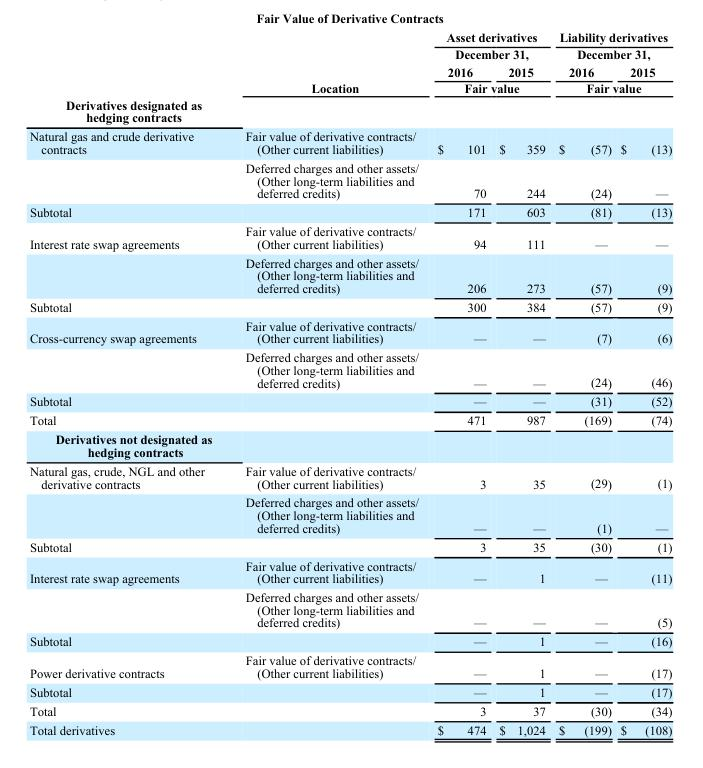table: (28, 29, 671, 736)
table column: (224, 29, 427, 736), (28, 29, 224, 736), (427, 29, 492, 736), (551, 29, 615, 736), (492, 29, 551, 736), (615, 29, 671, 736)
table column header: (28, 29, 671, 96)
table projected row header: (28, 429, 671, 461), (28, 96, 671, 126)
table row: (28, 252, 671, 297), (28, 158, 671, 202), (28, 347, 671, 391), (28, 492, 671, 536), (28, 587, 671, 631), (28, 29, 671, 62), (28, 126, 671, 158), (28, 429, 671, 461), (28, 555, 671, 587), (28, 650, 671, 682), (28, 221, 671, 252), (28, 316, 671, 347), (28, 461, 671, 492), (28, 96, 671, 126), (28, 202, 671, 221), (28, 297, 671, 316), (28, 391, 671, 410), (28, 410, 671, 429), (28, 536, 671, 555), (28, 631, 671, 650), (28, 682, 671, 701), (28, 701, 671, 720), (28, 62, 671, 79), (28, 79, 671, 96), (28, 720, 671, 736)
table spanning cell: (28, 126, 224, 202), (28, 221, 224, 297), (28, 555, 224, 631), (28, 316, 224, 391), (28, 461, 224, 536), (224, 29, 427, 96), (427, 29, 551, 62), (551, 29, 671, 62), (427, 79, 551, 96), (551, 79, 671, 96)
